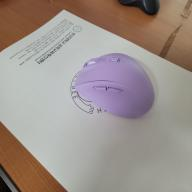mouse: (73, 51, 154, 118)
